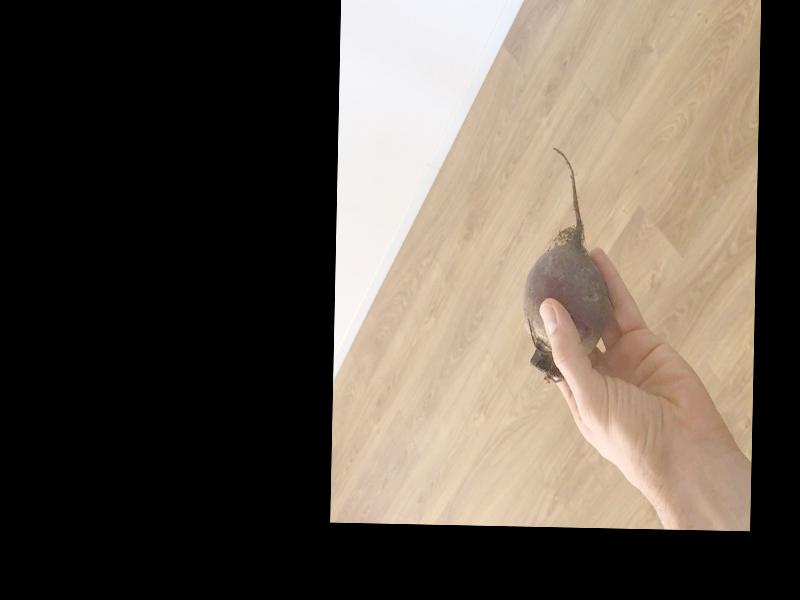Beet: (522, 146, 611, 383)
